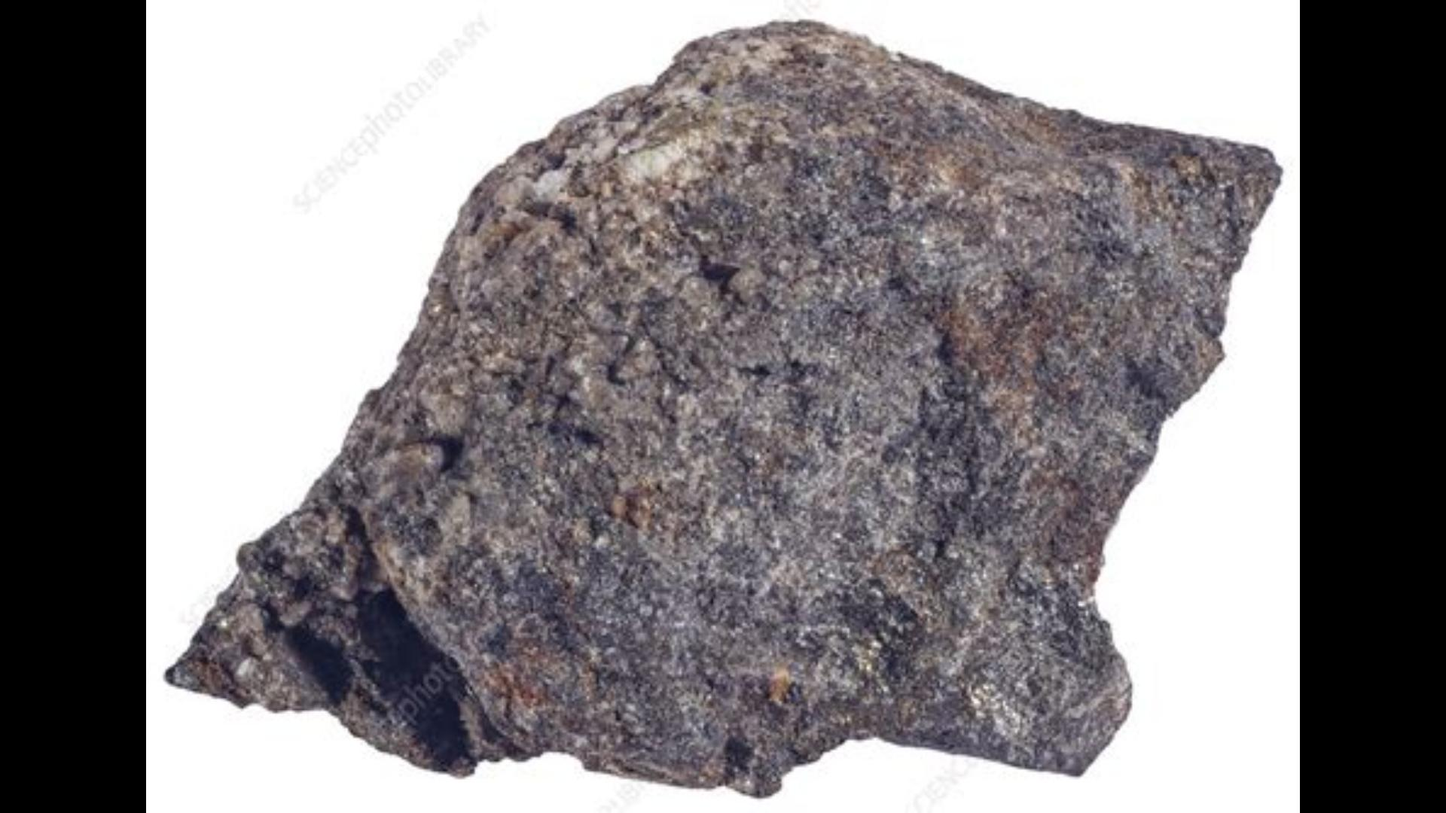rock: (168, 27, 1278, 794)
